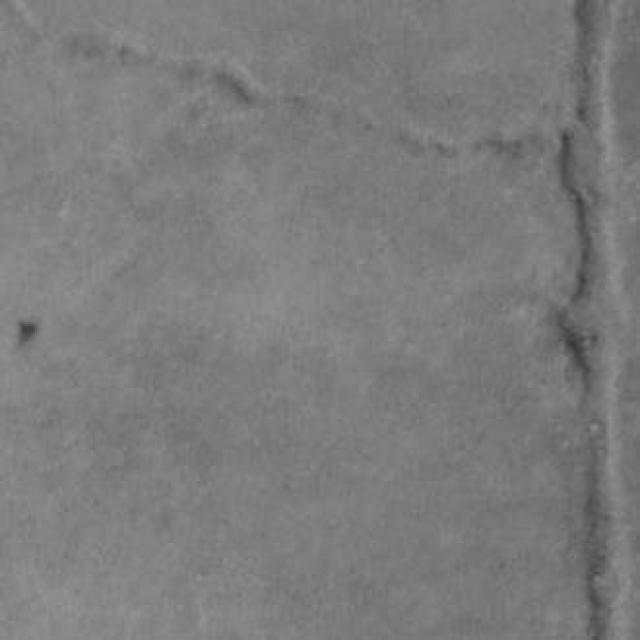crack: (57, 30, 544, 170), (557, 0, 630, 639)
